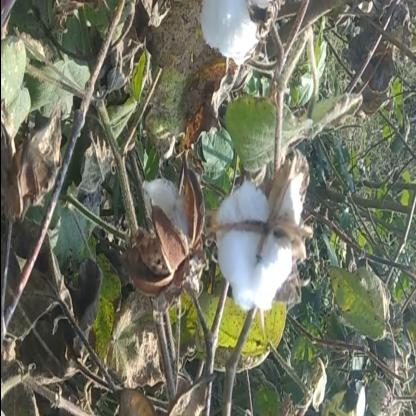cotton_ready: (198, 130, 306, 340)
